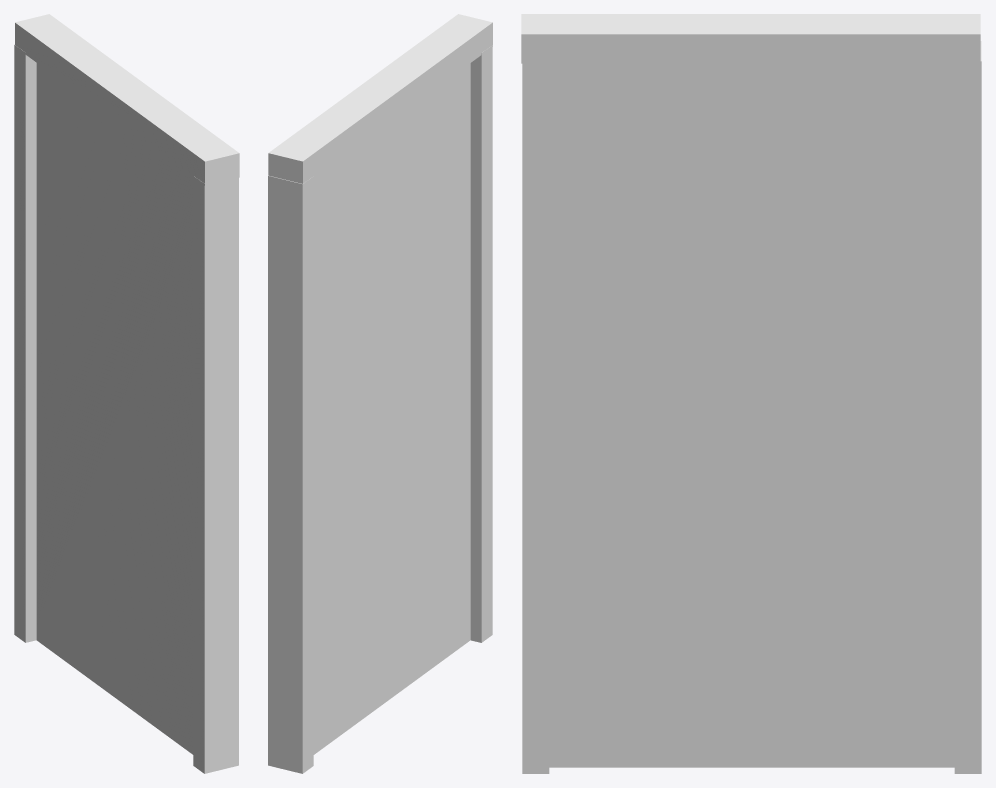
File: puerta.obj
The picture shows the model from 3 angles, left to right: view 1: azimuth 30°, elevation 25°; view 2: azimuth 150°, elevation 25°; view 3: azimuth 270°, elevation 25°; orthographic projection. The views are drawn at different scales.
Parts seen in each view (by area): view 1: polySurface3; view 2: polySurface3; view 3: polySurface3.
Boxes of the visible parts, bbox=[...] form: polySurface3: bbox=[14, 14, 239, 773]; polySurface3: bbox=[268, 14, 492, 773]; polySurface3: bbox=[521, 14, 981, 773].
Bounding box in the file's own units: 0.2169 × 3.65 × 2.06.
Materials: 1 (1 with a texture image).
